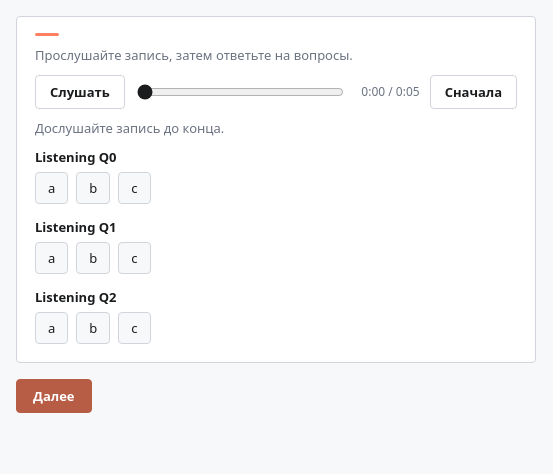
Test: OnboardingPlacement › play() rejection shows listening-playback-error Russian banner
Click the button with test id "listening-play". click: (80, 92)
box: left=35, top=75, right=125, bottom=109
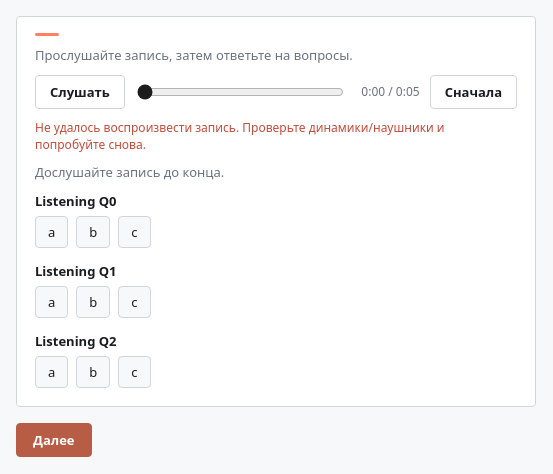
Expected: the message with test id "listening-playback-error" shows "Не удалось воспроизвести", left=35, top=119, right=444, bottom=153
